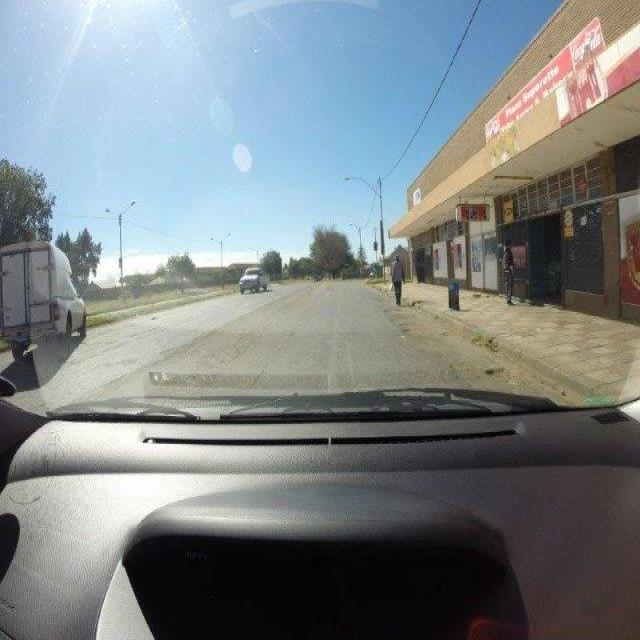lubang: (477, 357, 511, 380)
